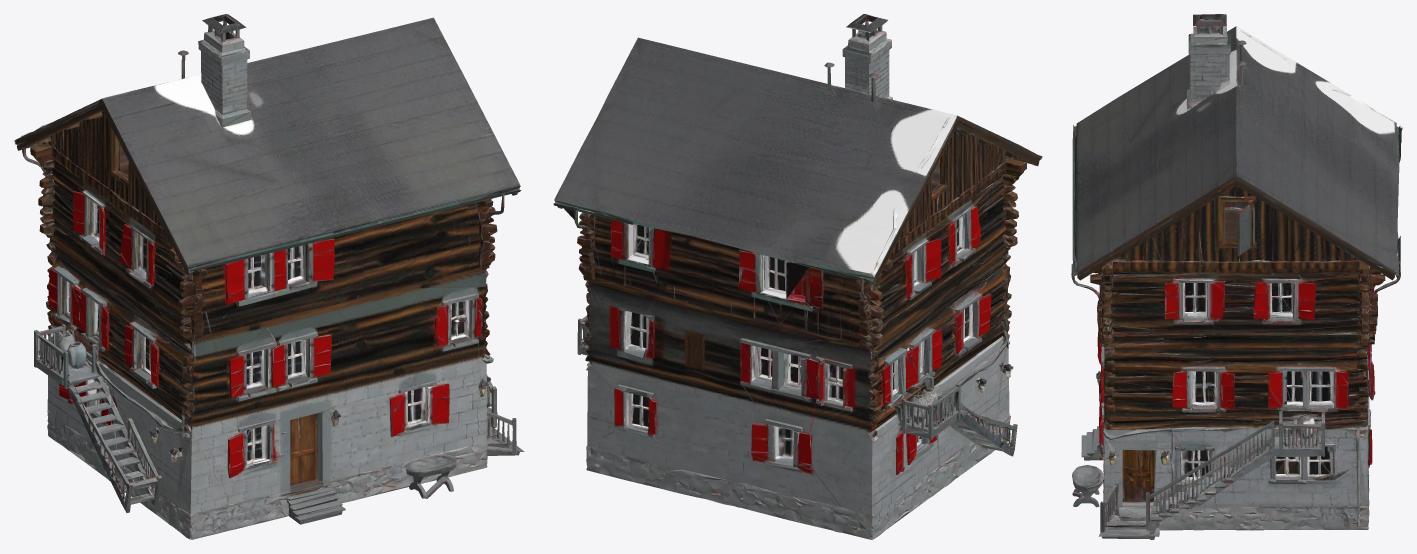
The model's file is hotel_valais.glb.
The picture shows the model from 3 angles, left to right: view 1: azimuth 30°, elevation 25°; view 2: azimuth 150°, elevation 25°; view 3: azimuth 270°, elevation 25°; orthographic projection. The views are drawn at different scales.
Bounding box in the file's own units: 1.61 × 1.9 × 1.35.
Materials: 1 (1 with a texture image).
